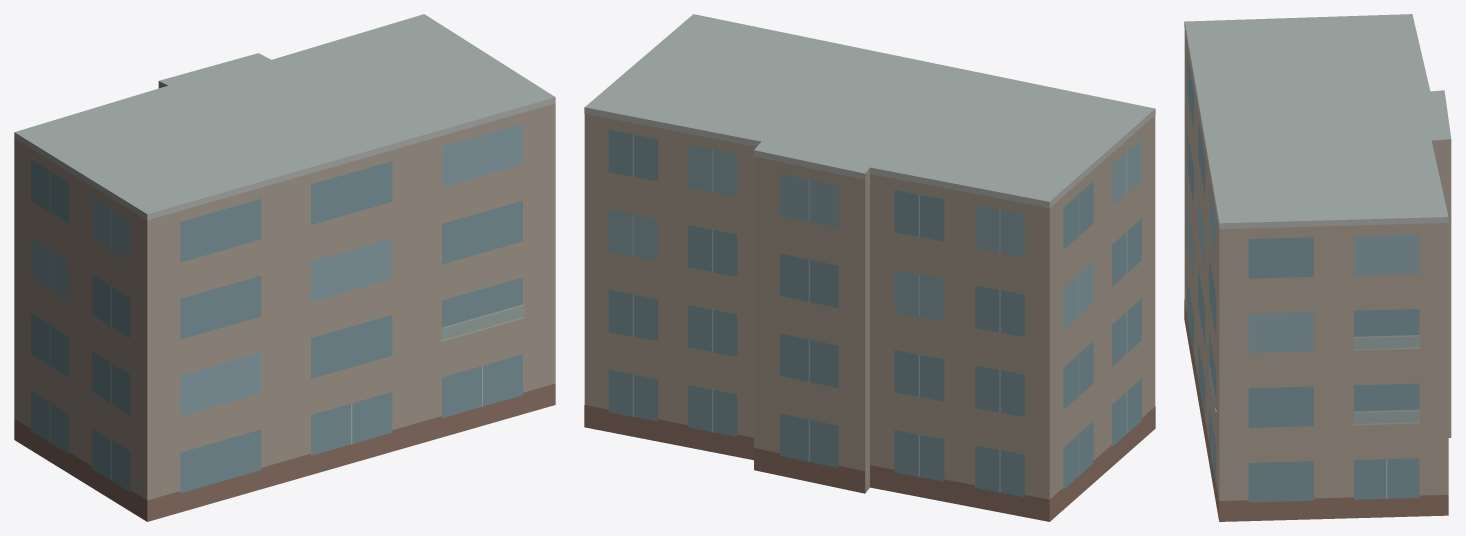
The model's file is survey-upis-32526763.glb.
The picture shows the model from 3 angles, left to right: view 1: azimuth 30°, elevation 25°; view 2: azimuth 150°, elevation 25°; view 3: azimuth 270°, elevation 25°; orthographic projection. The views are drawn at different scales.
Visible parts, largest first — view 1: survey-upis-32526763.tmp; view 2: survey-upis-32526763.tmp; view 3: survey-upis-32526763.tmp.
Part boxes in pixels (x1,y1,x2,y2): survey-upis-32526763.tmp: (14, 14, 555, 521); survey-upis-32526763.tmp: (584, 14, 1155, 521); survey-upis-32526763.tmp: (1184, 14, 1451, 521).
Size of the model in its own units: 18.65 by 12.4 by 10.05.
